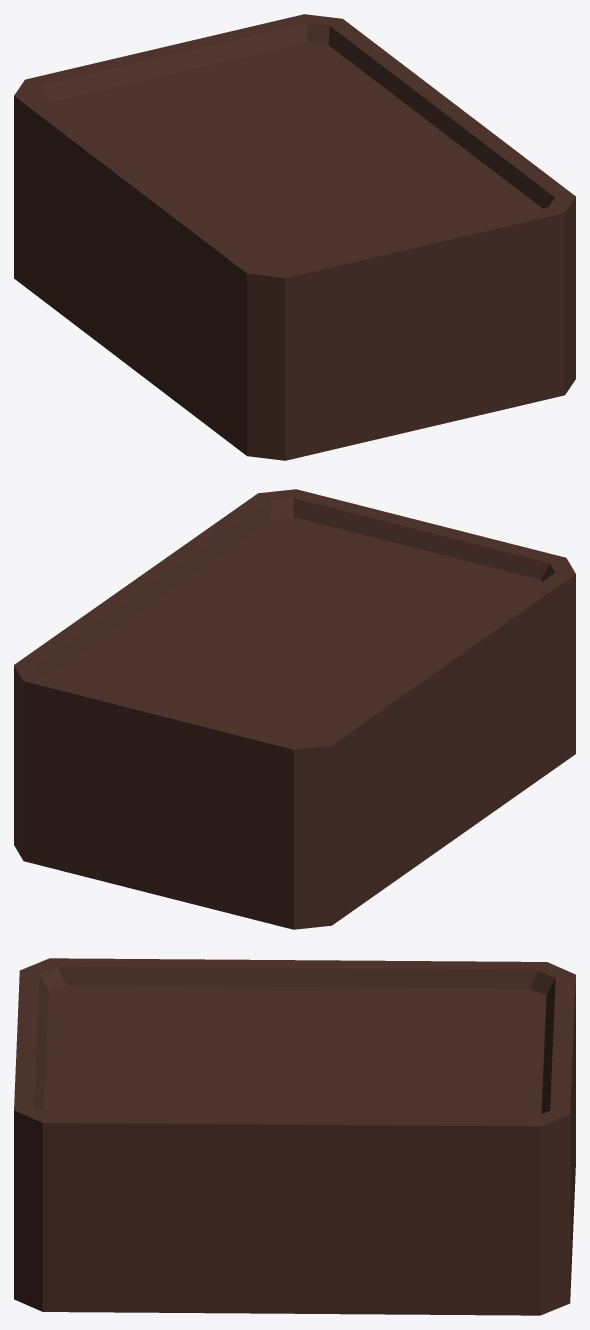
File: manhole002.fbx
3 views of the same model, one above another, from view 1: azimuth 30°, elevation 25°; view 2: azimuth 150°, elevation 25°; view 3: azimuth 270°, elevation 25° (orthographic). The views are drawn at different scales.
Parts seen in each view (by area): view 1: manhole square; view 2: manhole square; view 3: manhole square.
Part boxes in pixels (x1=…): manhole square: x1=14, y1=14, x2=575, y2=460; manhole square: x1=14, y1=489, x2=575, y2=929; manhole square: x1=14, y1=958, x2=575, y2=1315.
Bounding box in the file's own units: 11.45 × 6 × 16.16.
